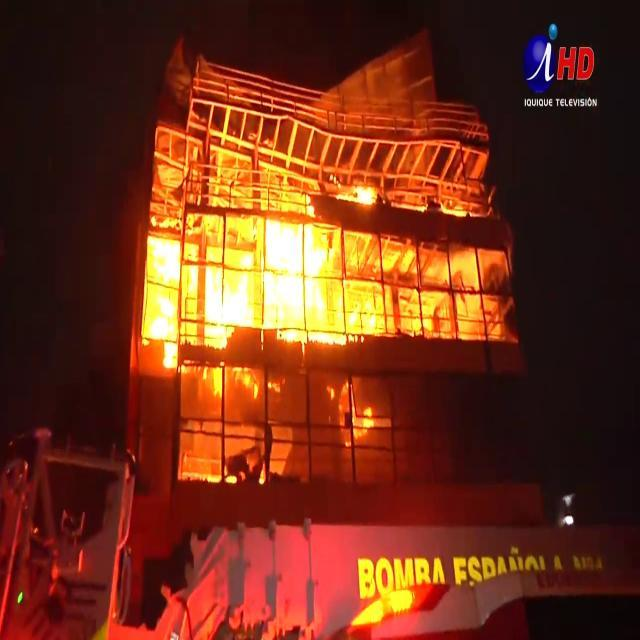Fire: (140, 175, 350, 365)
